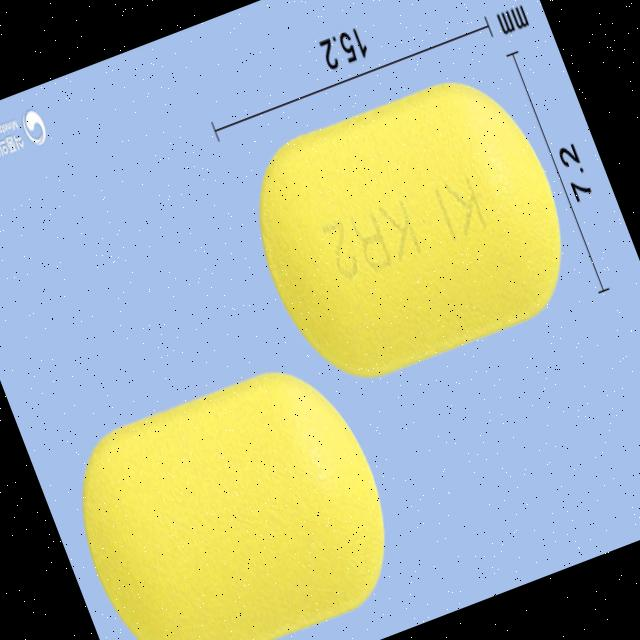Clarithromycin Tab- LGCI: (226, 58, 594, 405), (47, 344, 417, 640)
